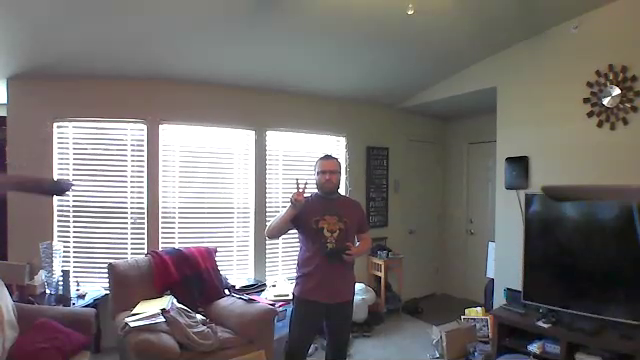peace: (287, 176, 314, 212)
